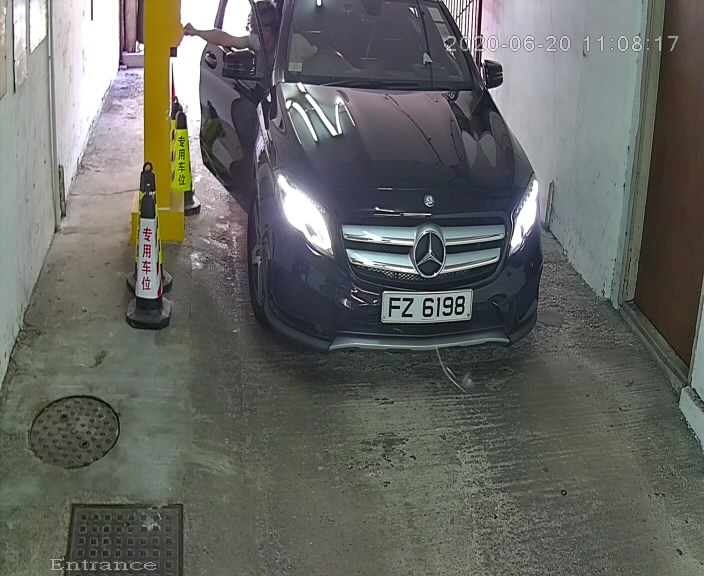privatecar: (185, 3, 562, 373)
